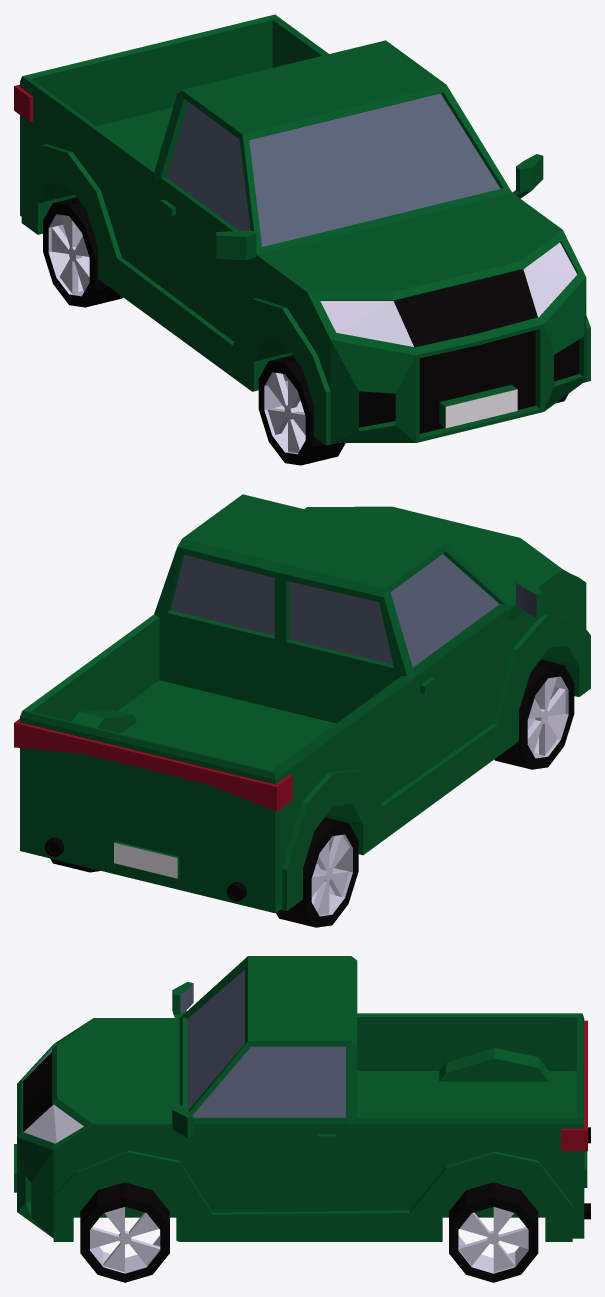
File: Pickup.gltf
3 views of the same model, one above another, from view 1: azimuth 30°, elevation 25°; view 2: azimuth 150°, elevation 25°; view 3: azimuth 270°, elevation 25° (orthographic). The views are drawn at different scales.
Visible parts, largest first — view 1: Pickup, Pickup_wheel_front_right, Pickup_wheel_rear_right; view 2: Pickup, Pickup_wheel_rear_right, Pickup_wheel_front_right; view 3: Pickup, Pickup_wheel_rear_left, Pickup_wheel_front_left.
Boxes of the visible parts, x1,y1,x2,y2 form: Pickup: (14, 14, 590, 445); Pickup_wheel_front_right: (258, 355, 345, 465); Pickup_wheel_rear_right: (43, 197, 122, 307); Pickup: (14, 494, 590, 913); Pickup_wheel_rear_right: (276, 817, 358, 927); Pickup_wheel_front_right: (494, 659, 574, 769); Pickup: (14, 956, 590, 1241); Pickup_wheel_rear_left: (449, 1182, 538, 1282); Pickup_wheel_front_left: (80, 1182, 169, 1282).
Bounding box in the file's own units: 281 × 221 × 504.
